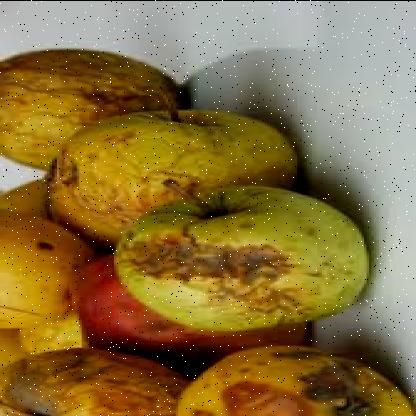damaged_apple: (116, 186, 384, 330), (50, 115, 292, 248), (3, 46, 184, 170), (176, 336, 411, 416), (4, 343, 178, 416)
